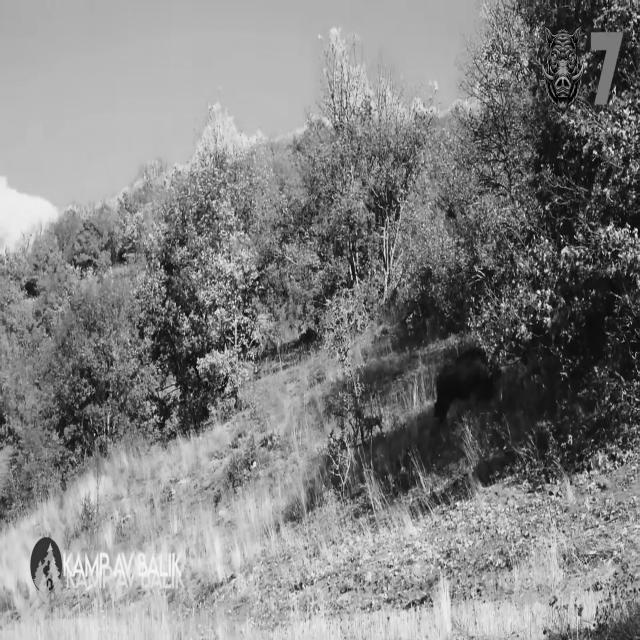boar: (434, 348, 493, 421), (542, 27, 583, 113)
